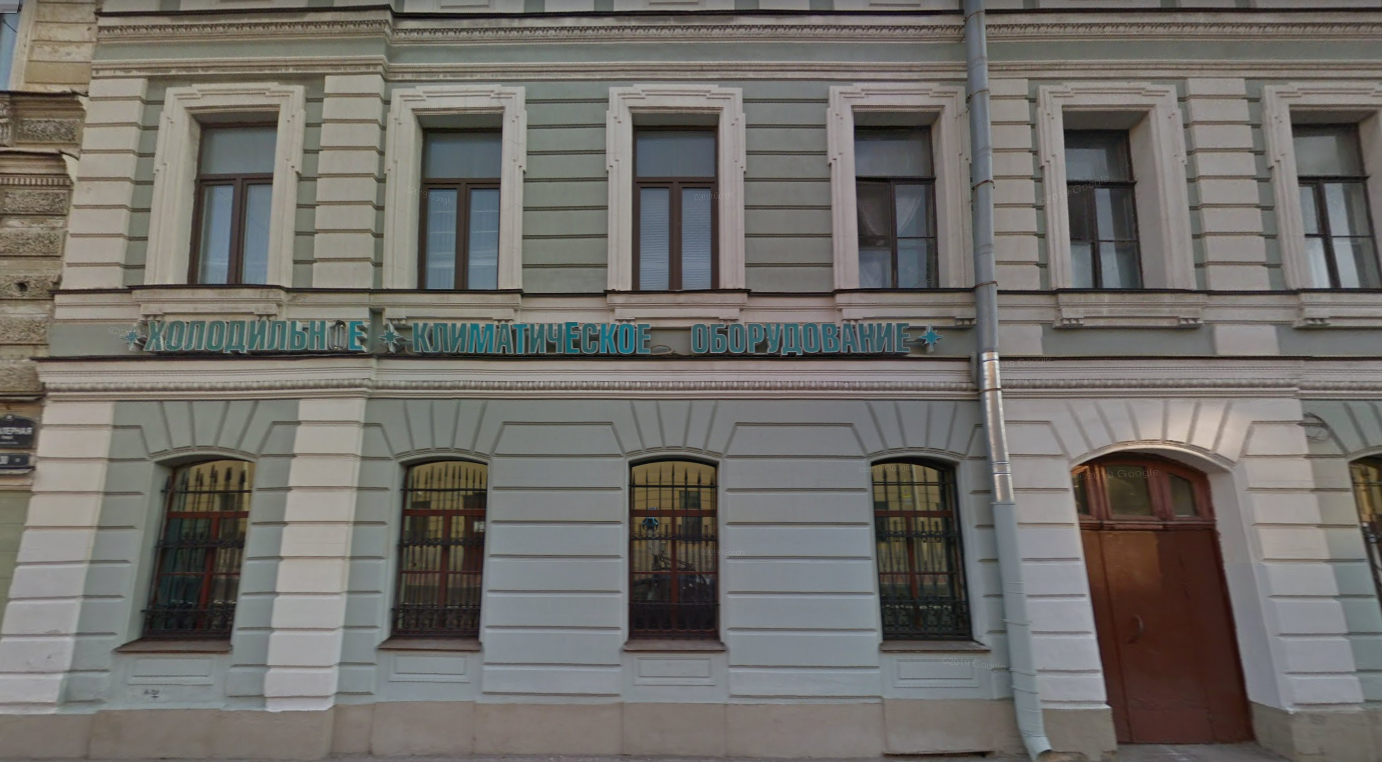door: (1108, 527, 1221, 752)
signboard: (122, 315, 941, 363)
window: (865, 446, 971, 641), (156, 456, 250, 651), (630, 455, 721, 644), (402, 458, 483, 644), (1293, 120, 1382, 288), (633, 125, 718, 291), (421, 119, 499, 289), (1063, 131, 1145, 292), (855, 126, 935, 290), (199, 119, 270, 285)
